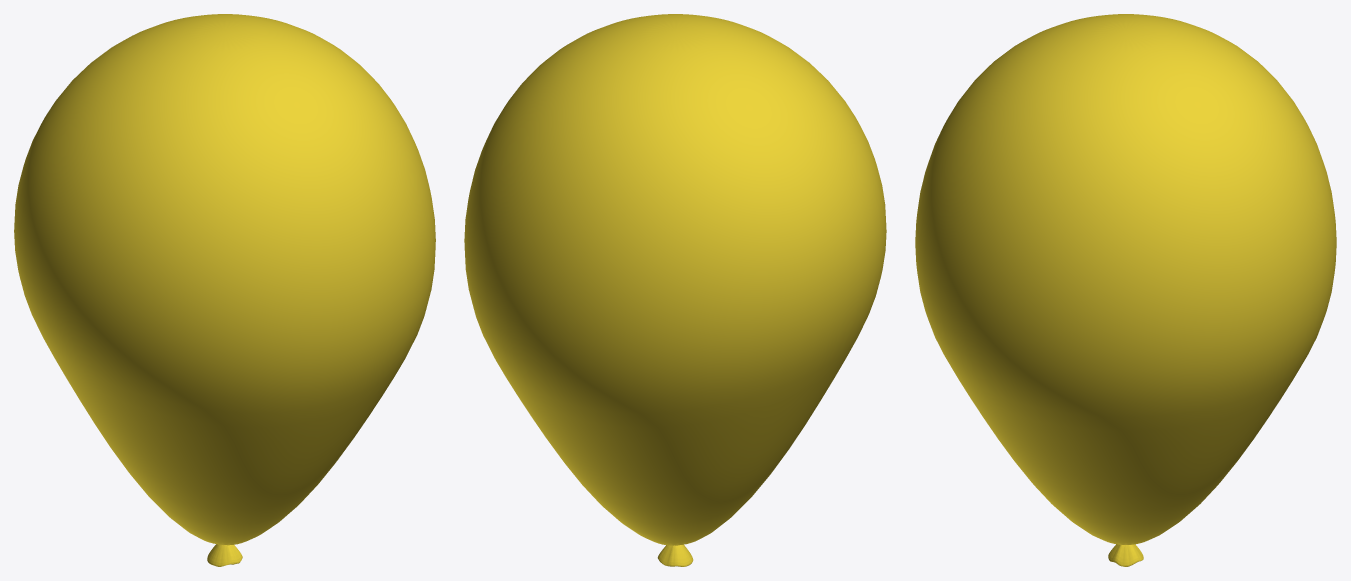
The model's file is BalloonOhneSchnur_gelb.fbx.
3 renders of one model, left to right at view 1: azimuth 30°, elevation 25°; view 2: azimuth 150°, elevation 25°; view 3: azimuth 270°, elevation 25°, orthographic.
Parts seen in each view (by area): view 1: Sphere, Cone; view 2: Sphere, Cone; view 3: Sphere, Cone.
Boxes of the visible parts, x1,y1,x2,y2 form: Sphere: [14, 14, 435, 545]; Cone: [207, 544, 242, 566]; Sphere: [464, 14, 886, 545]; Cone: [657, 544, 693, 566]; Sphere: [915, 14, 1336, 544]; Cone: [1108, 544, 1143, 566].
Bounding box in the file's own units: 197 × 272 × 197.
